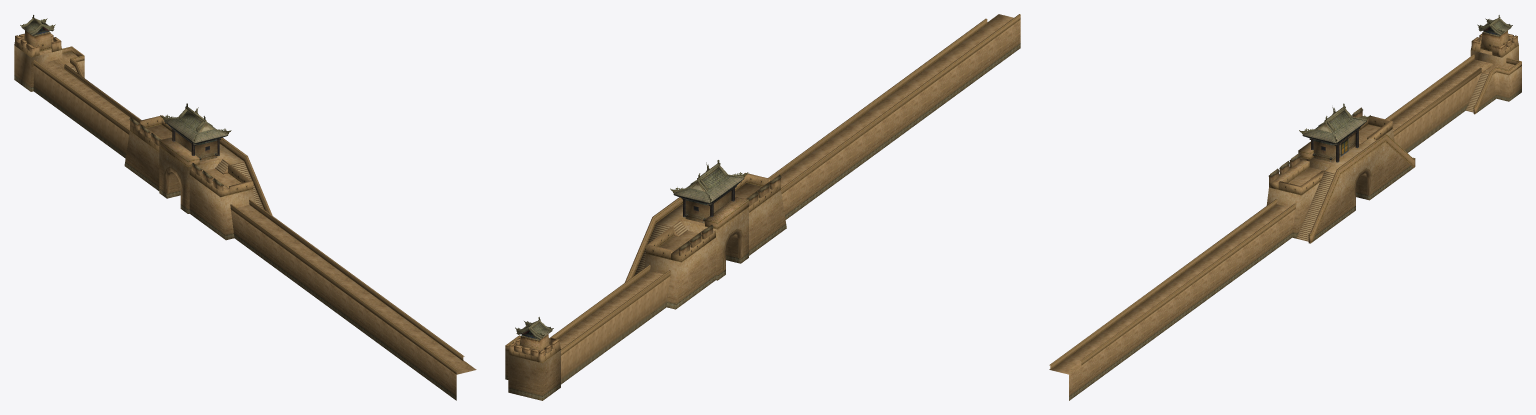
Rendered from w_cd_eastwa_w.glb.
The picture shows the model from 3 angles, left to right: view 1: azimuth 30°, elevation 25°; view 2: azimuth 150°, elevation 25°; view 3: azimuth 330°, elevation 25°; orthographic projection. The views are drawn at different scales.
Parts seen in each view (by area): view 1: w_cd_eastwa_w_wall01, w_cd_eastwa_w_wall03, w_cd_eastwa_w_roof, w_cd_eastwa_w_wall02; view 2: w_cd_eastwa_w_wall01, w_cd_eastwa_w_wall03, w_cd_eastwa_w_roof, w_cd_eastwa_w_wall02; view 3: w_cd_eastwa_w_wall01, w_cd_eastwa_w_wall03, w_cd_eastwa_w_roof, w_cd_eastwa_w_wall02.
Boxes of the visible parts, box(x1,y1,x2,y2) form: w_cd_eastwa_w_wall01: box(14, 45, 476, 400); w_cd_eastwa_w_wall03: box(14, 30, 464, 374); w_cd_eastwa_w_roof: box(21, 17, 228, 159); w_cd_eastwa_w_wall02: box(172, 129, 219, 161); w_cd_eastwa_w_wall01: box(505, 14, 1020, 400); w_cd_eastwa_w_wall03: box(505, 14, 1020, 362); w_cd_eastwa_w_roof: box(516, 163, 744, 340); w_cd_eastwa_w_wall02: box(683, 187, 734, 223); w_cd_eastwa_w_wall01: box(1049, 45, 1521, 400); w_cd_eastwa_w_wall03: box(1049, 30, 1521, 369); w_cd_eastwa_w_roof: box(1302, 17, 1511, 159); w_cd_eastwa_w_wall02: box(1311, 129, 1358, 162).
Size of the model in its own units: 19.24 by 30.52 by 274.
6 materials, 6 textured.
